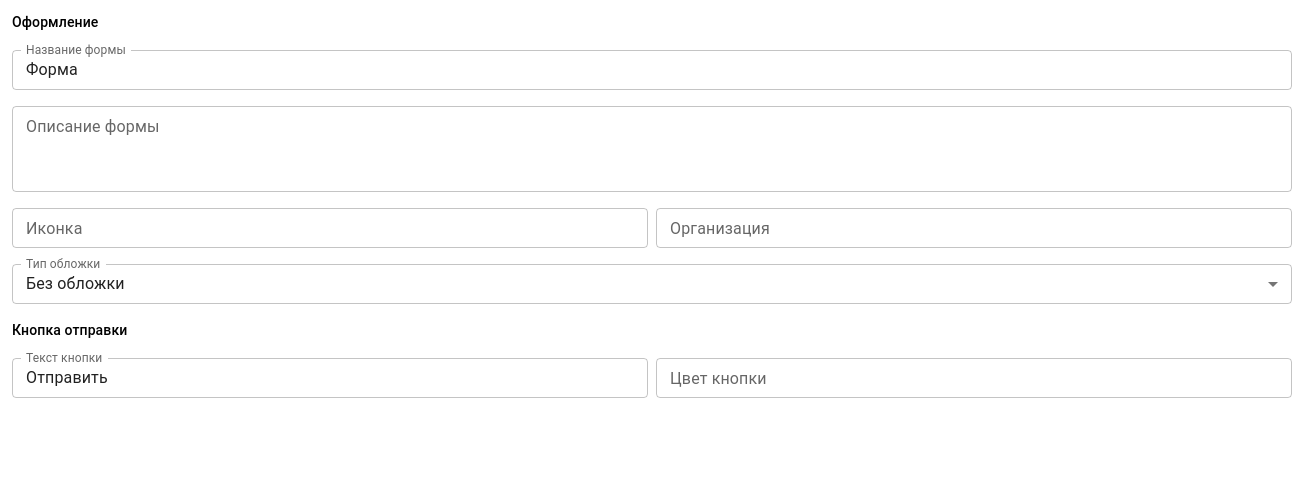
Test: form builder focused editors › edits presentation cover without taking ownership of branding
Replace the text in the field labelled "Название формы" with "Анкета" at x=652, y=70, box [12, 50, 1292, 90]
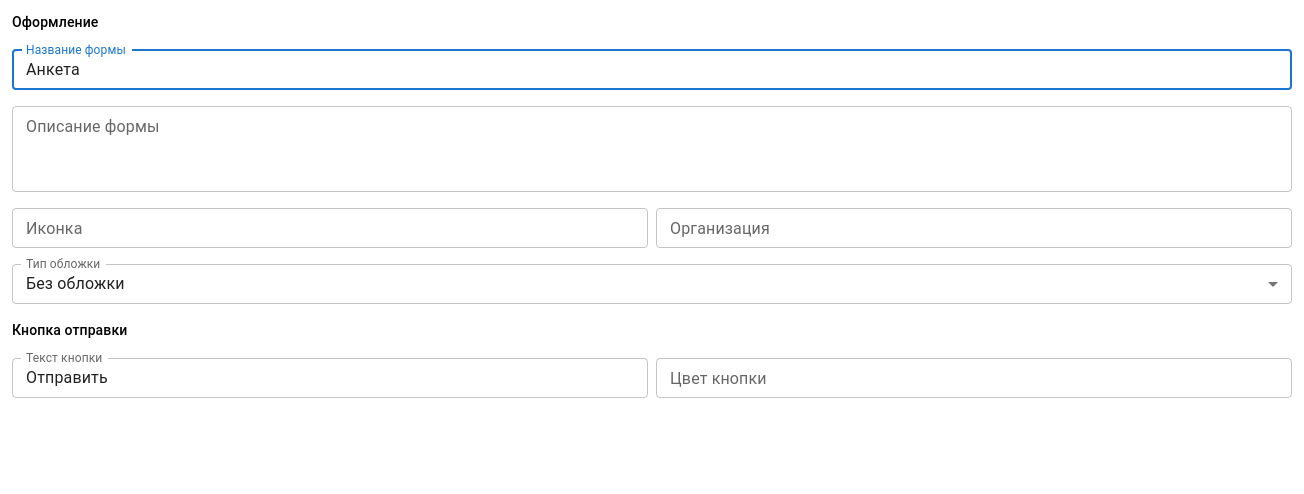
Click the dropdown named "Тип обложки" at x=75, y=284, box [26, 274, 125, 294]
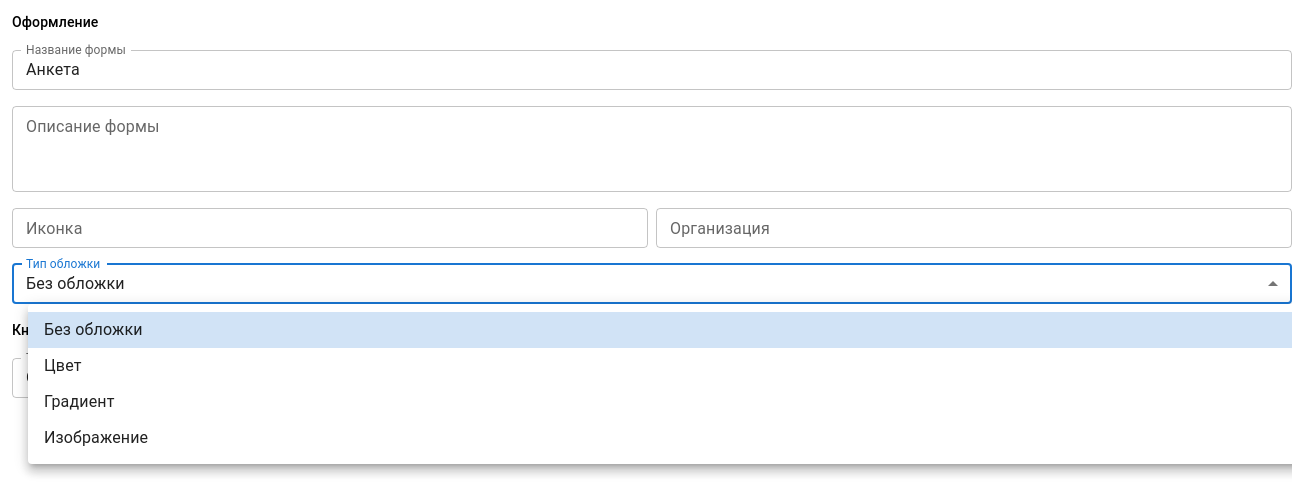
Click the option "Цвет" at x=63, y=366, box [44, 356, 82, 375]
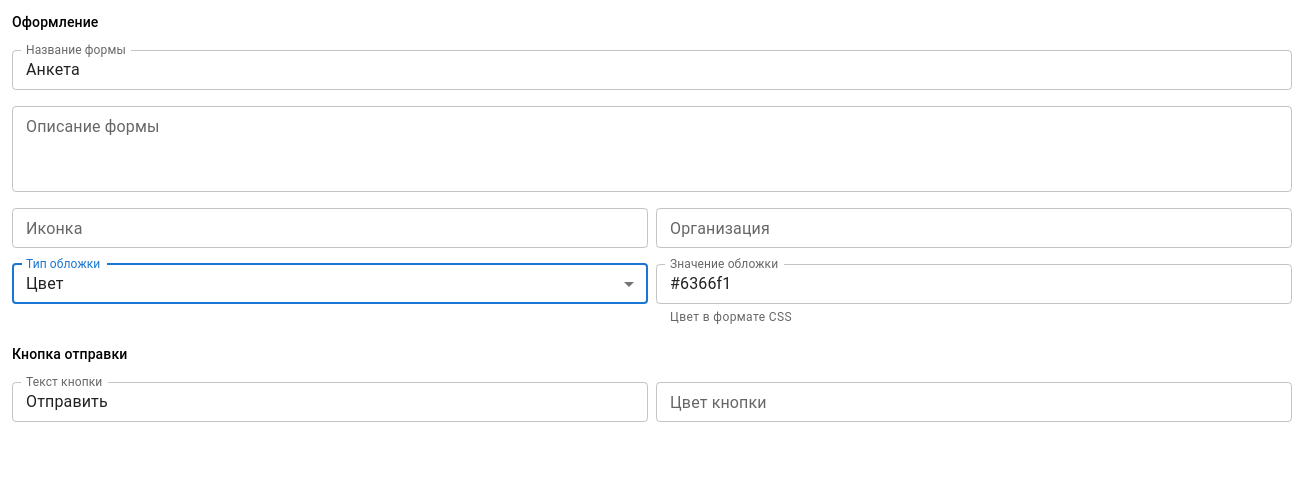
Expected: the field labelled "Значение обложки" is shown, [656, 264, 1292, 304]
